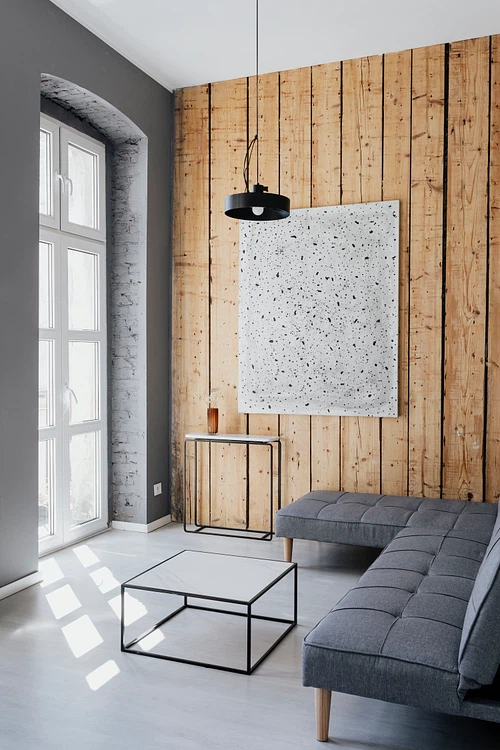side table: (178, 430, 284, 543)
sofa: (272, 483, 500, 743)
table: (116, 547, 301, 678)
wall art: (235, 198, 405, 420)
